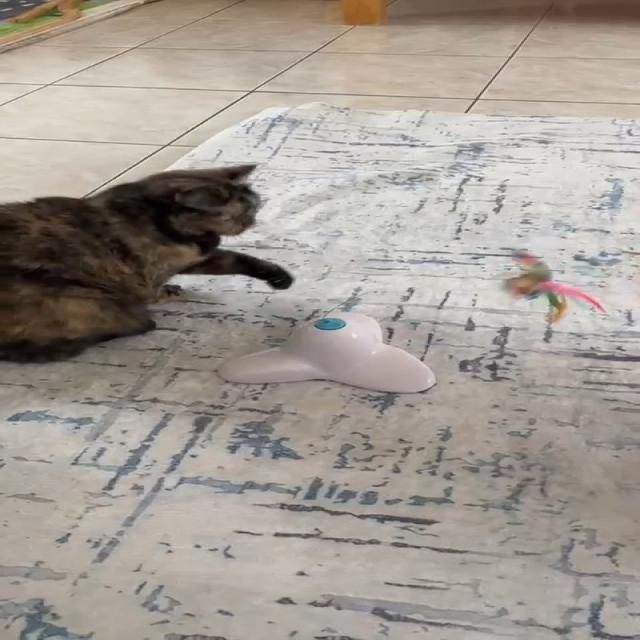authorized: (0, 162, 293, 363)
